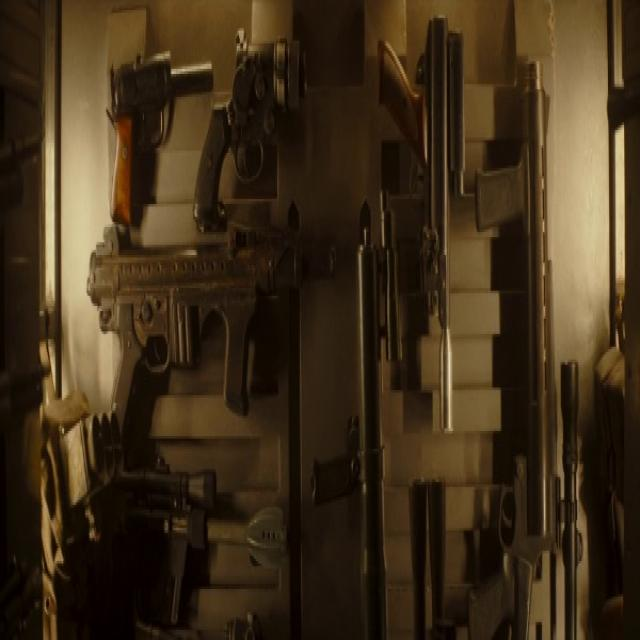rifle: (75, 217, 350, 454)
